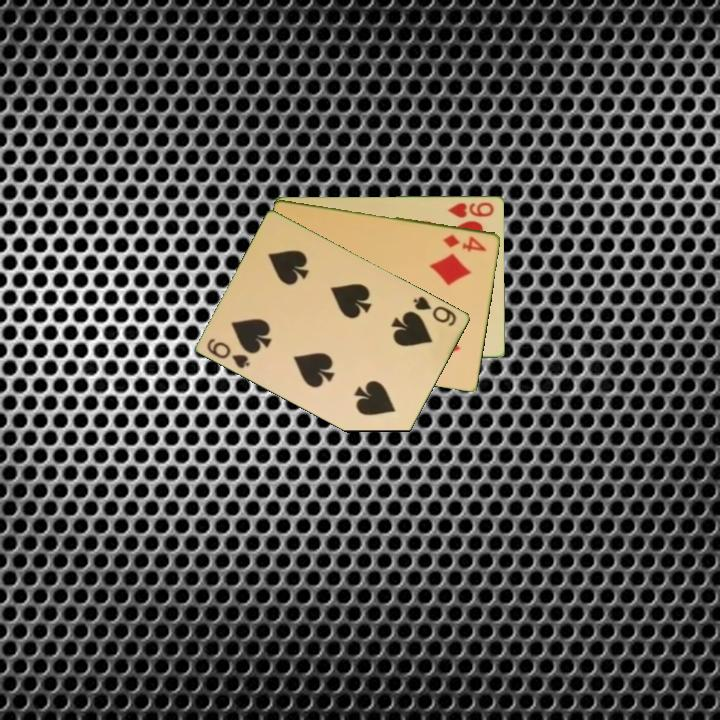4d: (440, 231, 490, 254)
6s: (410, 292, 460, 329), (204, 334, 253, 371)
9h: (445, 199, 497, 220)
